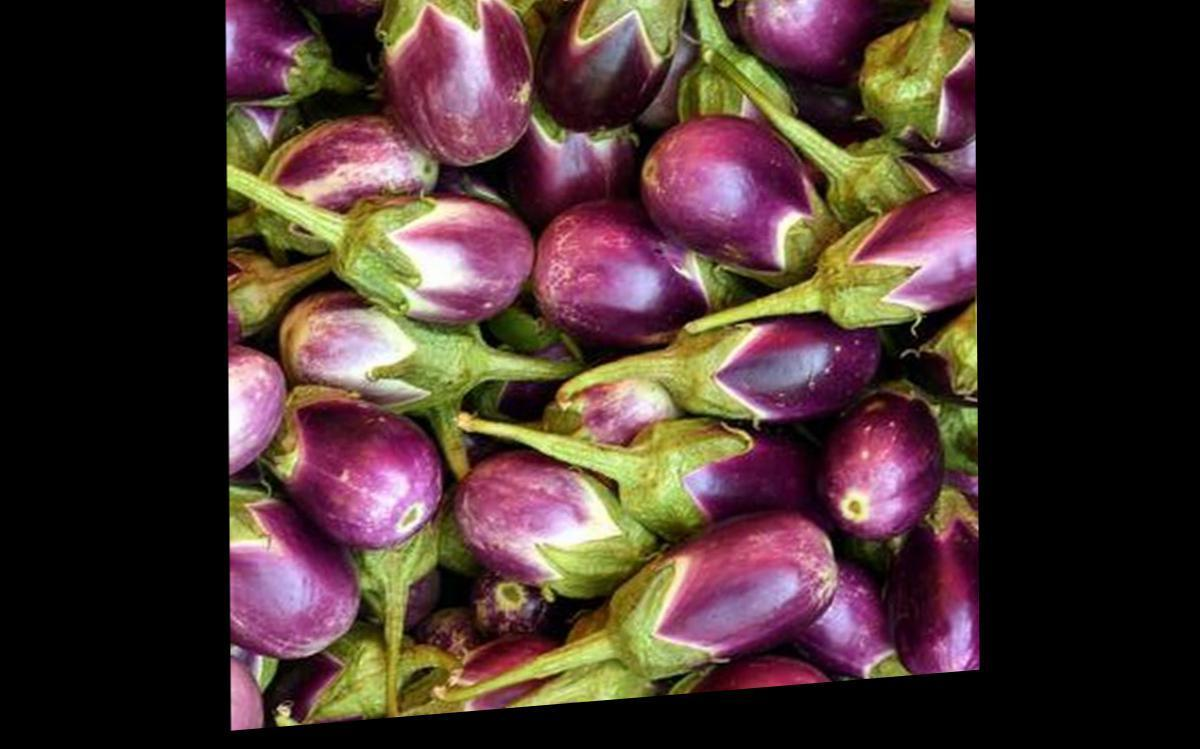eggplant: (227, 0, 970, 733)
